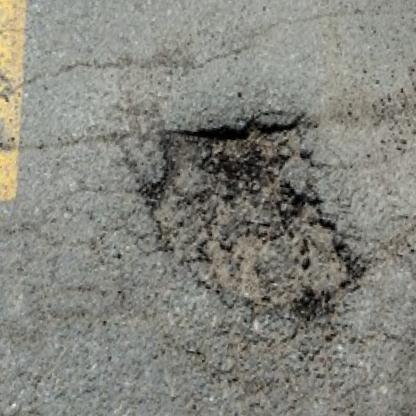pothole: (114, 85, 383, 346)
